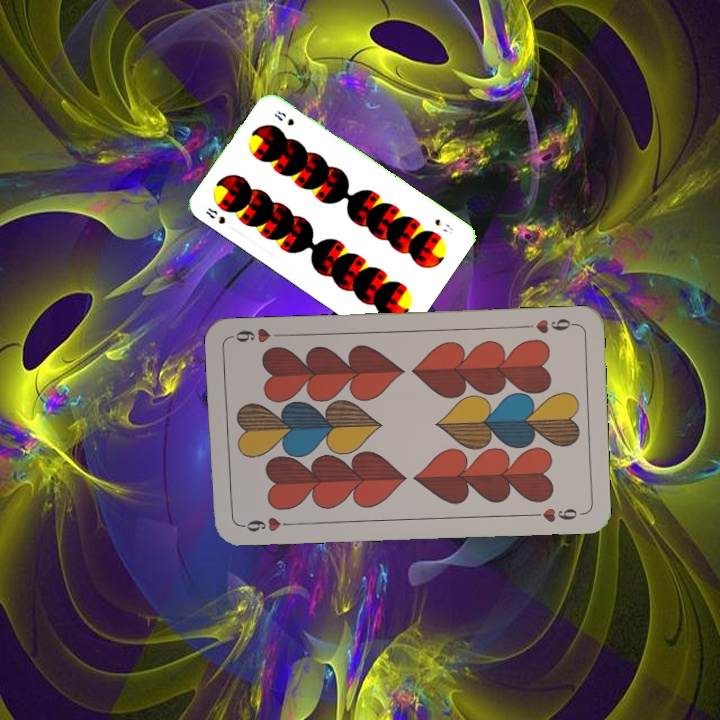H9: (519, 314, 578, 336), (236, 513, 295, 534)
S8: (202, 203, 228, 227), (431, 215, 455, 237)
